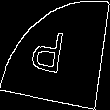P_S: (35, 26, 75, 84)
